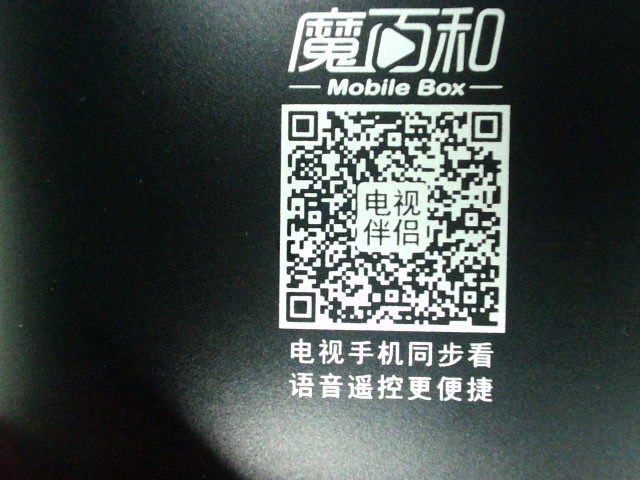AZ_MobileBox: (271, 2, 519, 410)
